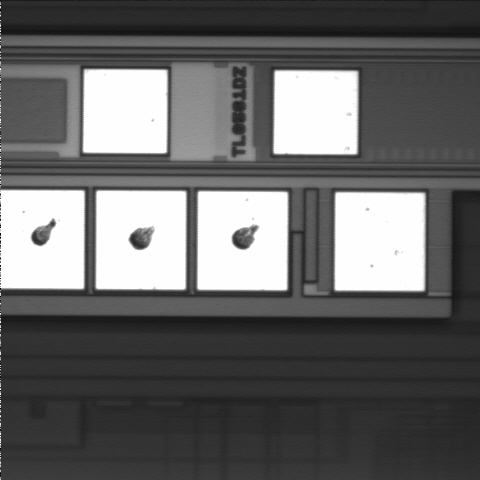pad: (96, 191, 186, 290), (198, 191, 288, 290), (335, 192, 425, 291), (83, 70, 167, 153), (274, 71, 358, 154)
